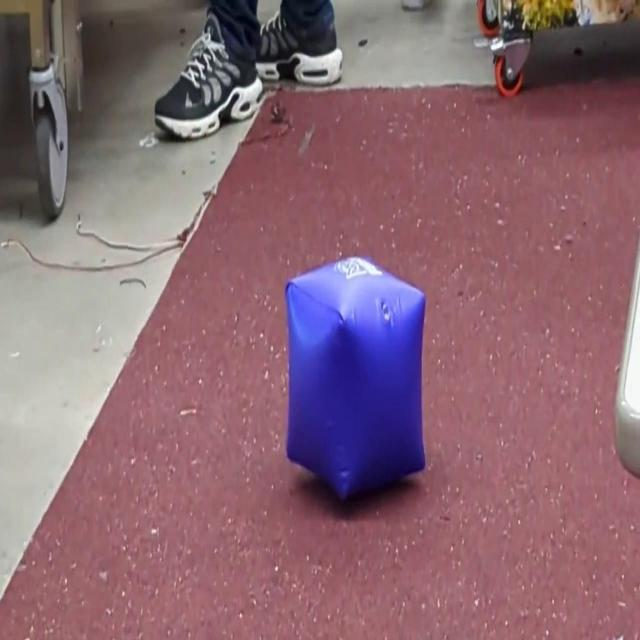frc_cube: (282, 253, 428, 507)
